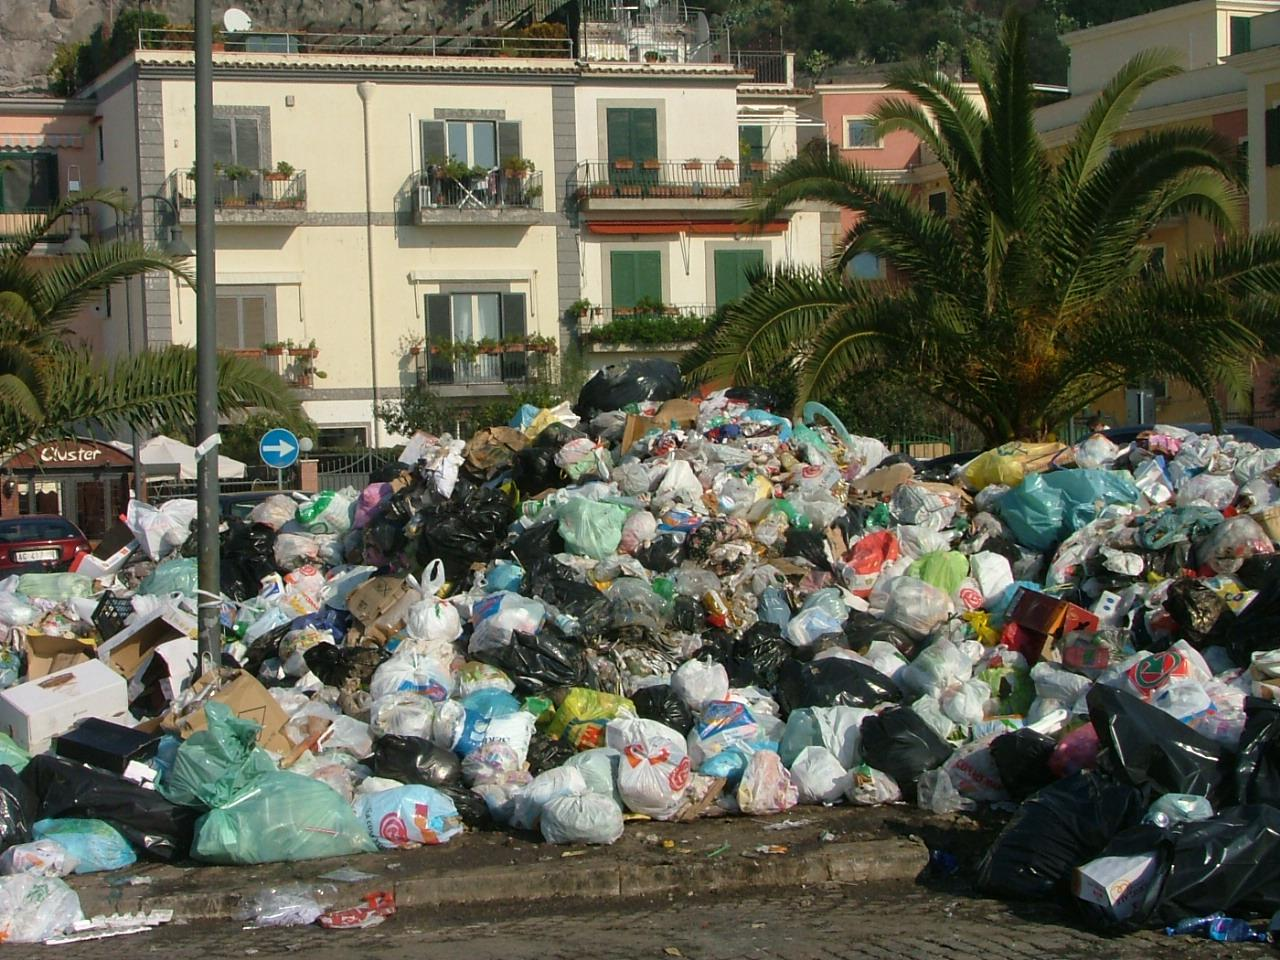Garbage: (0, 364, 1280, 916), (653, 518, 1280, 784), (1122, 429, 1280, 603), (0, 818, 133, 951), (219, 776, 363, 873), (0, 579, 155, 653), (694, 402, 820, 478), (541, 489, 643, 579), (163, 727, 273, 804), (10, 580, 134, 644), (365, 659, 453, 750), (908, 638, 1007, 717), (555, 790, 636, 877), (507, 629, 619, 692), (129, 503, 225, 576), (999, 460, 1067, 560), (218, 513, 288, 606), (469, 591, 555, 661), (1146, 488, 1215, 571), (683, 684, 761, 757), (365, 489, 428, 577), (260, 626, 359, 677), (737, 756, 821, 815), (695, 685, 755, 767), (875, 476, 969, 528), (798, 595, 874, 659), (559, 427, 629, 496), (880, 564, 961, 622), (671, 641, 737, 710), (877, 557, 939, 625), (387, 786, 475, 832), (1214, 495, 1260, 584), (259, 564, 322, 626), (615, 750, 677, 813), (838, 751, 905, 805), (292, 481, 357, 536), (411, 589, 465, 653), (515, 414, 568, 478), (664, 458, 709, 514), (717, 468, 769, 514), (1184, 442, 1266, 471), (234, 499, 294, 533)
